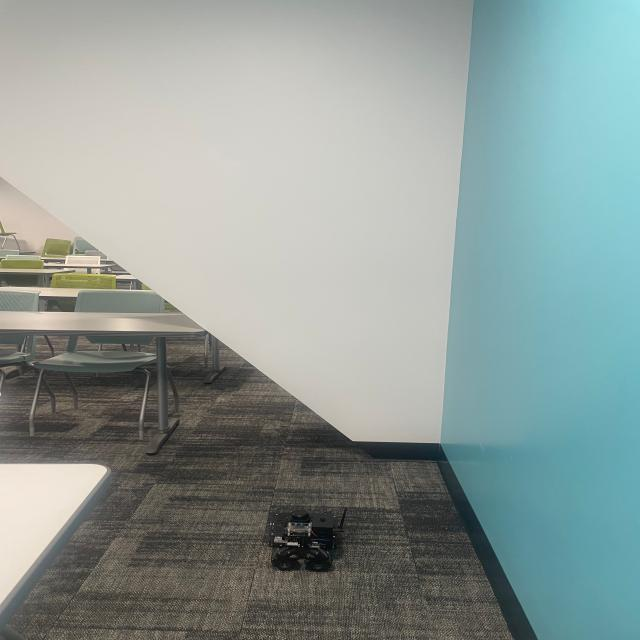ArduinoCar: (268, 504, 350, 573)
